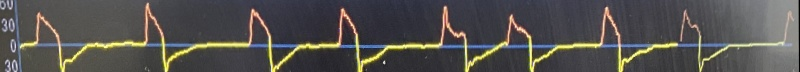normal_flow: (10, 0, 790, 72)
